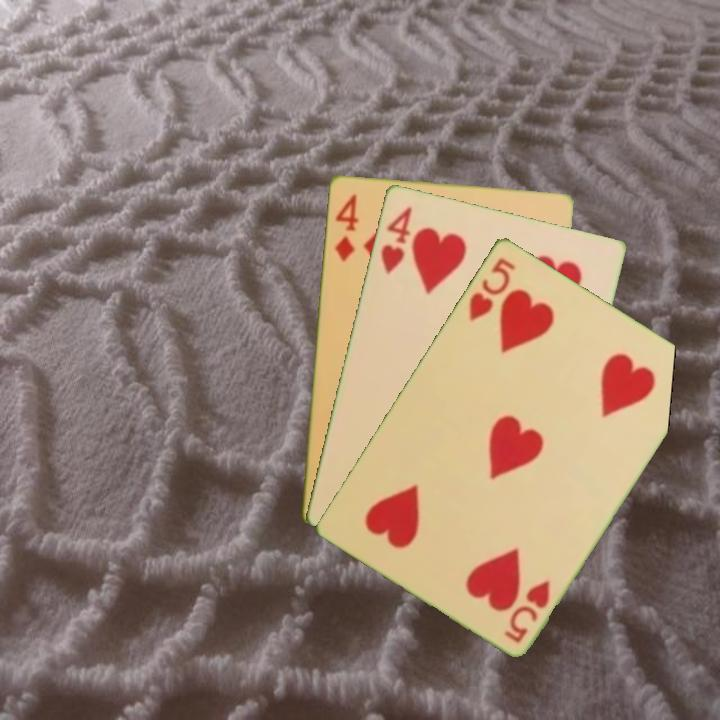4d: (331, 190, 362, 264)
4h: (377, 202, 415, 277)
5h: (465, 253, 519, 324), (500, 575, 553, 646)
